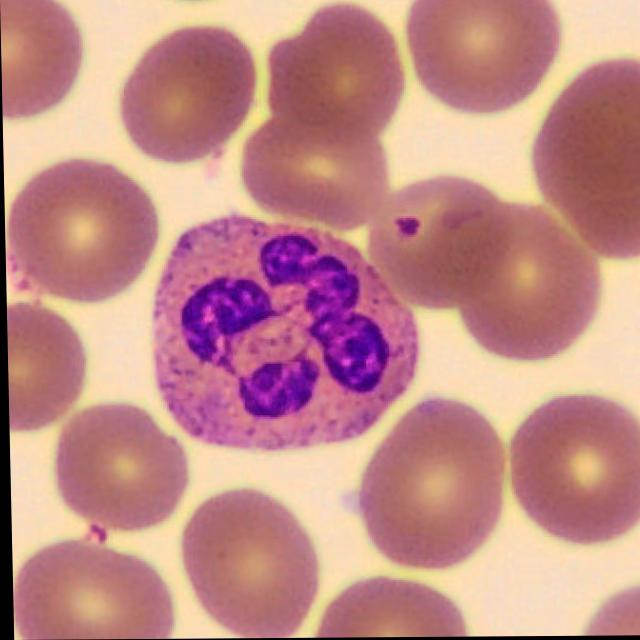Neutrofilo segmentado: (149, 216, 418, 454)
